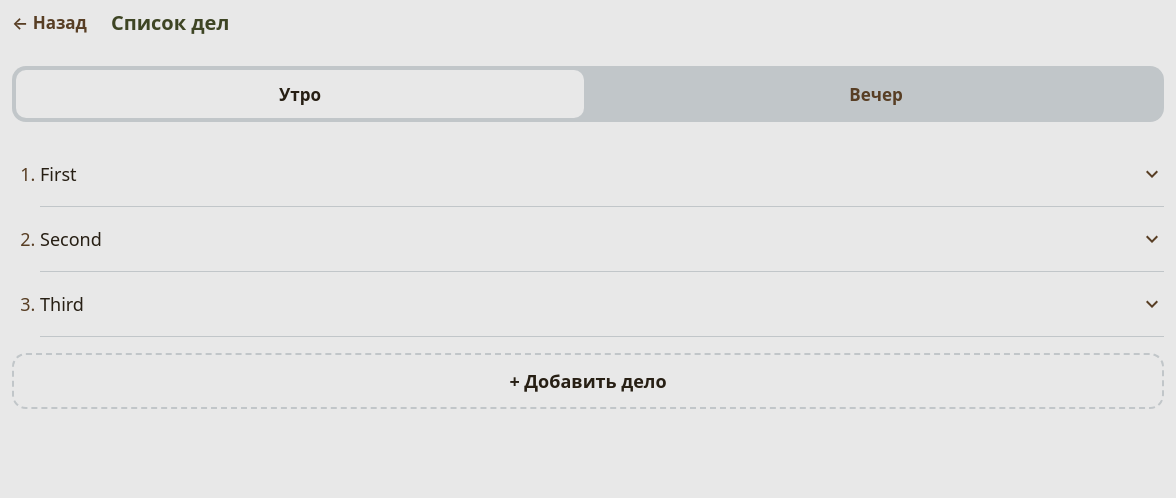
it: Editor: reordering › keeps the row open and follows the task through repeated moves
Click the button "First". click: (58,174)
box: [40,150,1164,198]
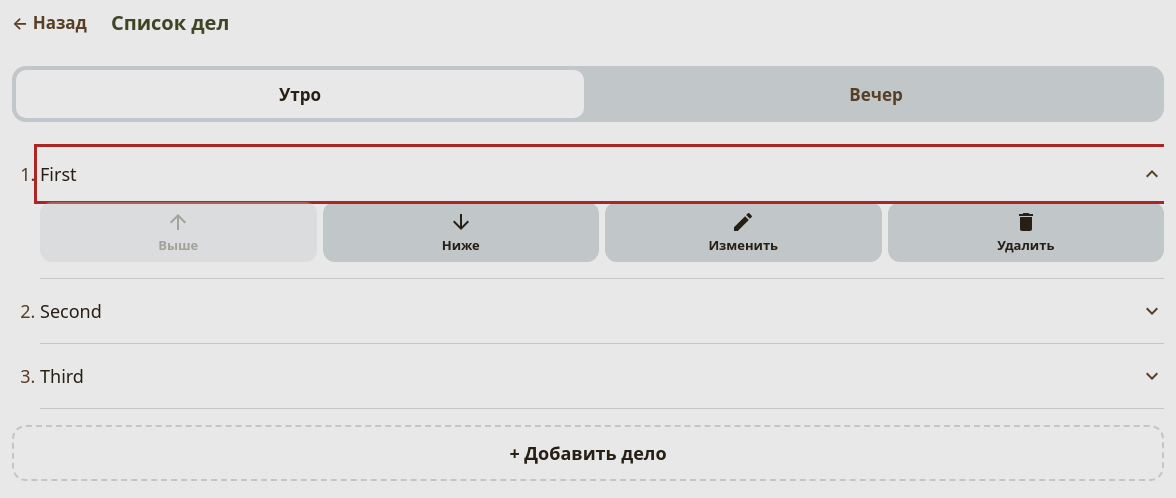
Click the button "Ниже". click: (461,232)
box: [322,202,599,262]
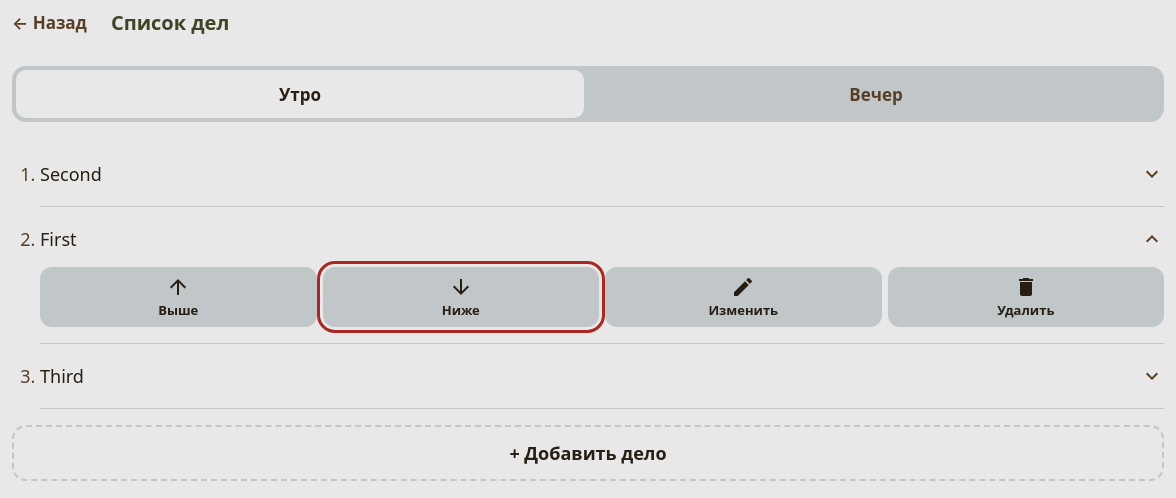
Click the button "Ниже". click: (461,297)
box: [322,267,599,327]
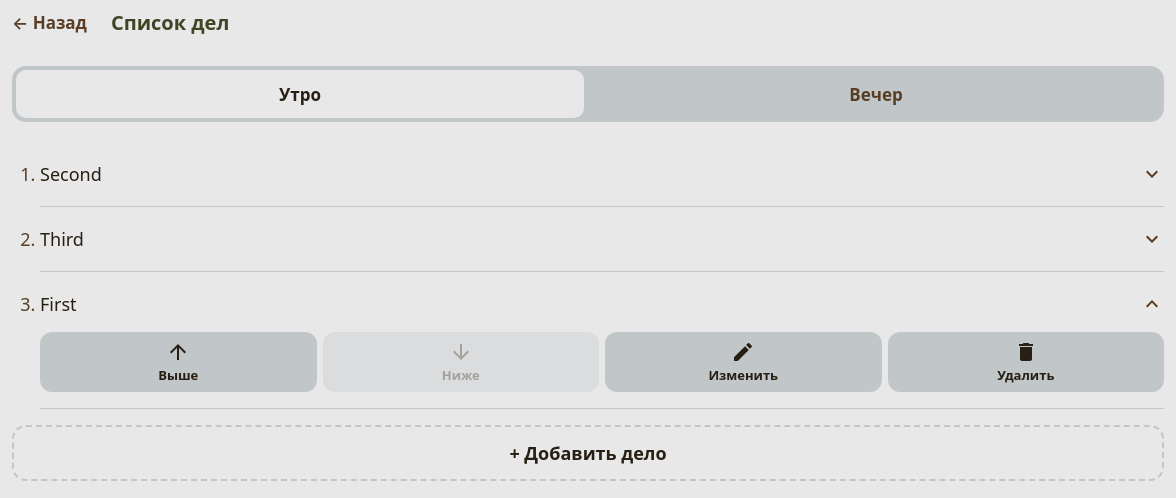
Check: the button "First" is expanded, box [40,280,1164,328]
Check: the button "Выше" is enabled, box [40,332,316,392]
Check: the button "Ниже" is disabled, box [322,332,599,392]
